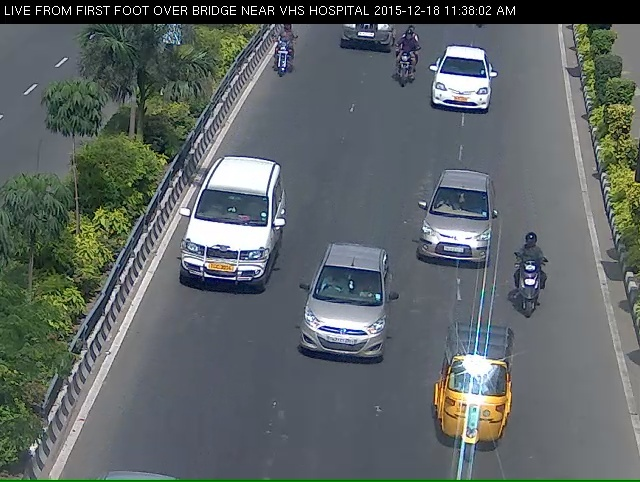Car: (171, 180, 284, 324), (392, 170, 516, 289), (298, 258, 390, 395), (435, 342, 517, 480), (427, 56, 505, 128), (330, 22, 398, 67)
Person: (510, 249, 559, 335), (265, 27, 300, 83), (396, 39, 416, 97)
